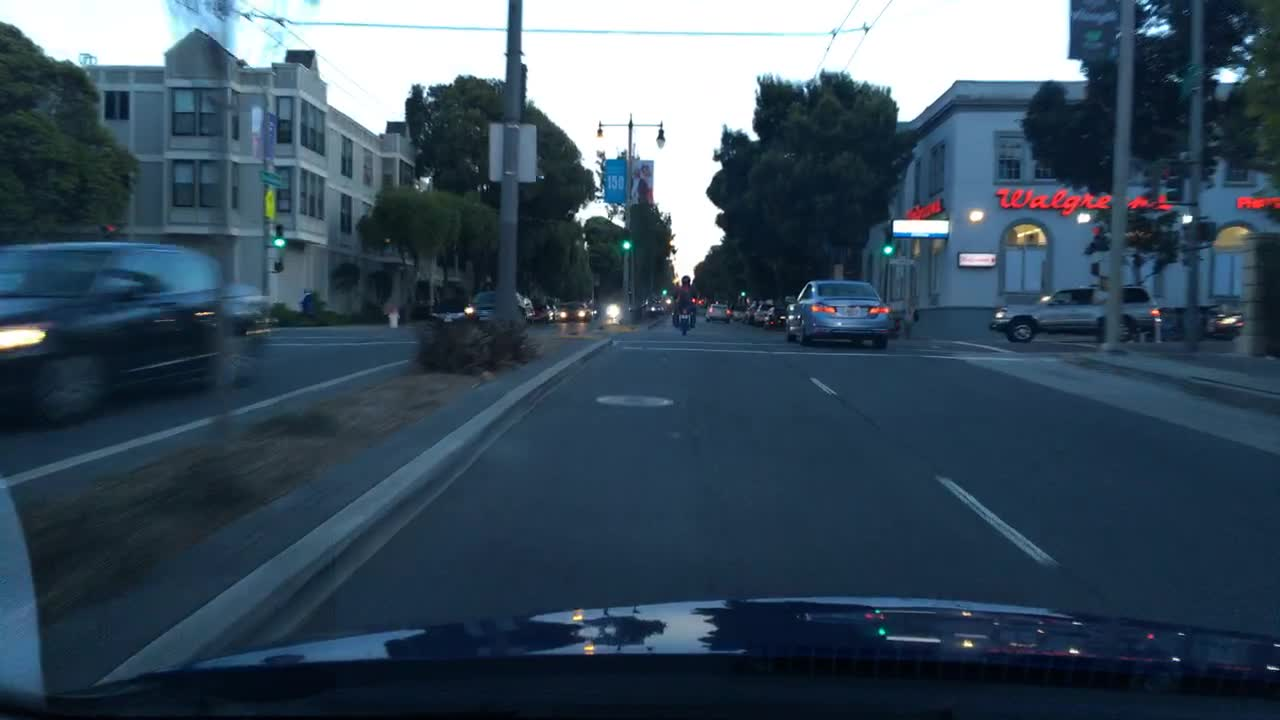car: (0, 242, 273, 430), (987, 282, 1157, 344), (788, 278, 896, 350), (1154, 302, 1249, 338), (468, 291, 530, 329), (434, 299, 478, 331), (890, 292, 916, 333), (525, 296, 557, 325), (558, 298, 591, 323), (752, 301, 774, 328), (702, 303, 729, 323), (738, 304, 762, 323), (766, 306, 786, 328), (607, 305, 624, 328), (647, 304, 675, 316), (726, 307, 745, 318)
motor: (668, 293, 697, 340)
rider: (670, 276, 698, 324)
traffic light: (1157, 159, 1183, 203), (1086, 220, 1108, 249), (881, 232, 898, 259), (99, 218, 118, 240), (621, 226, 633, 249), (275, 228, 286, 250), (661, 288, 668, 297), (739, 290, 749, 294)
traffic sign: (487, 120, 538, 184), (255, 165, 285, 187), (263, 184, 279, 220)
